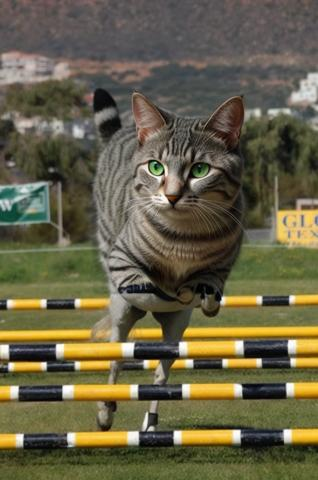cat: (93, 88, 254, 293)
horse: (96, 115, 230, 437)
